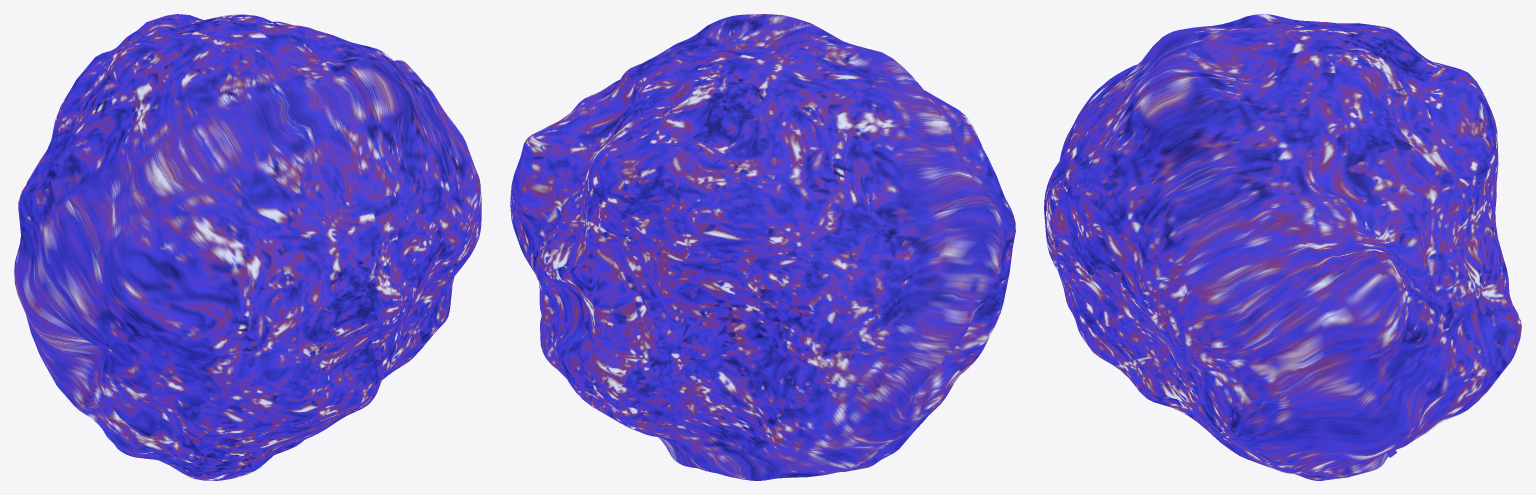
The model's file is cassiopeia_inner_shockwave.glb.
3 renders of one model, left to right at view 1: azimuth 30°, elevation 25°; view 2: azimuth 150°, elevation 25°; view 3: azimuth 270°, elevation 25°, orthographic. The views are drawn at different scales.
Visible parts, largest first — view 1: ShockWave_Inner_baked.001; view 2: ShockWave_Inner_baked.001; view 3: ShockWave_Inner_baked.001.
Part boxes in pixels (x1=…): ShockWave_Inner_baked.001: x1=14, y1=14, x2=481, y2=480; ShockWave_Inner_baked.001: x1=510, y1=14, x2=1015, y2=480; ShockWave_Inner_baked.001: x1=1044, y1=14, x2=1521, y2=480.
Bounding box in the file's own units: 93.78 × 87.92 × 87.89.
1 material, 1 textured.
